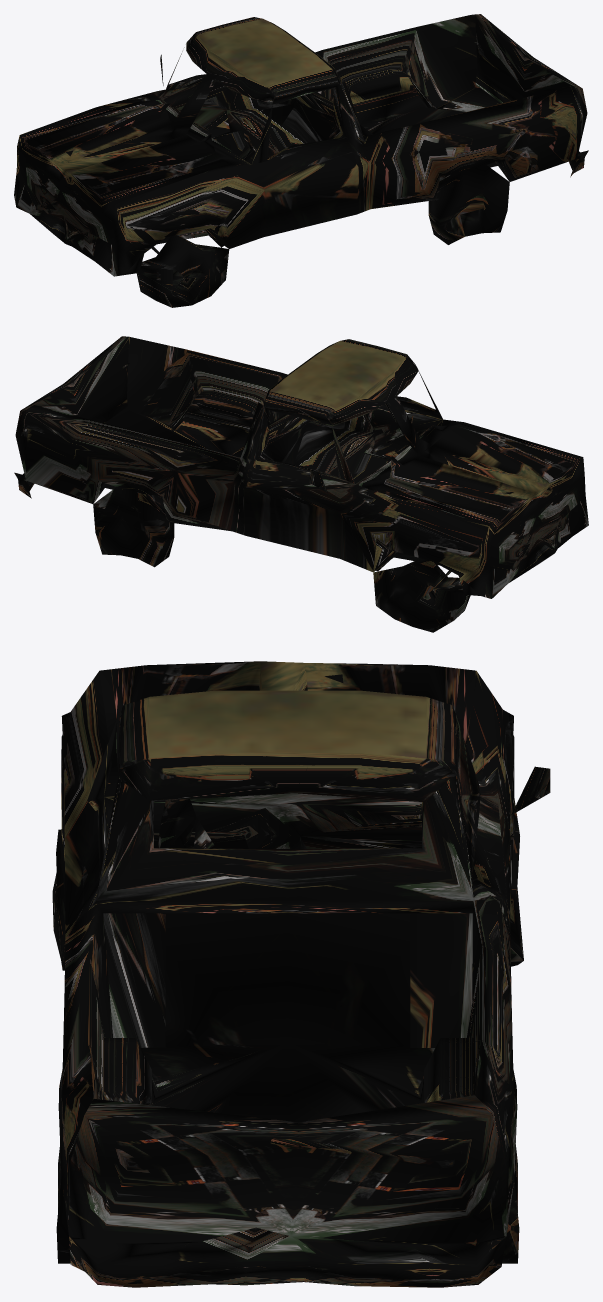
Rendered from rusty_abandoned_truck.glb.
3 renders of one model, top to bottom at view 1: azimuth 30°, elevation 25°; view 2: azimuth 150°, elevation 25°; view 3: azimuth 270°, elevation 25°, orthographic. The views are drawn at different scales.
Visible parts, largest first — view 1: rusty_abandoned_truck; view 2: rusty_abandoned_truck; view 3: rusty_abandoned_truck.
Part boxes in pixels (x1,y1,x2,y2): rusty_abandoned_truck: [14, 14, 588, 307]; rusty_abandoned_truck: [14, 336, 588, 632]; rusty_abandoned_truck: [52, 661, 550, 1287].
Bounding box in the file's own units: 30.71 × 11.36 × 13.7.
1 material, 1 textured.
